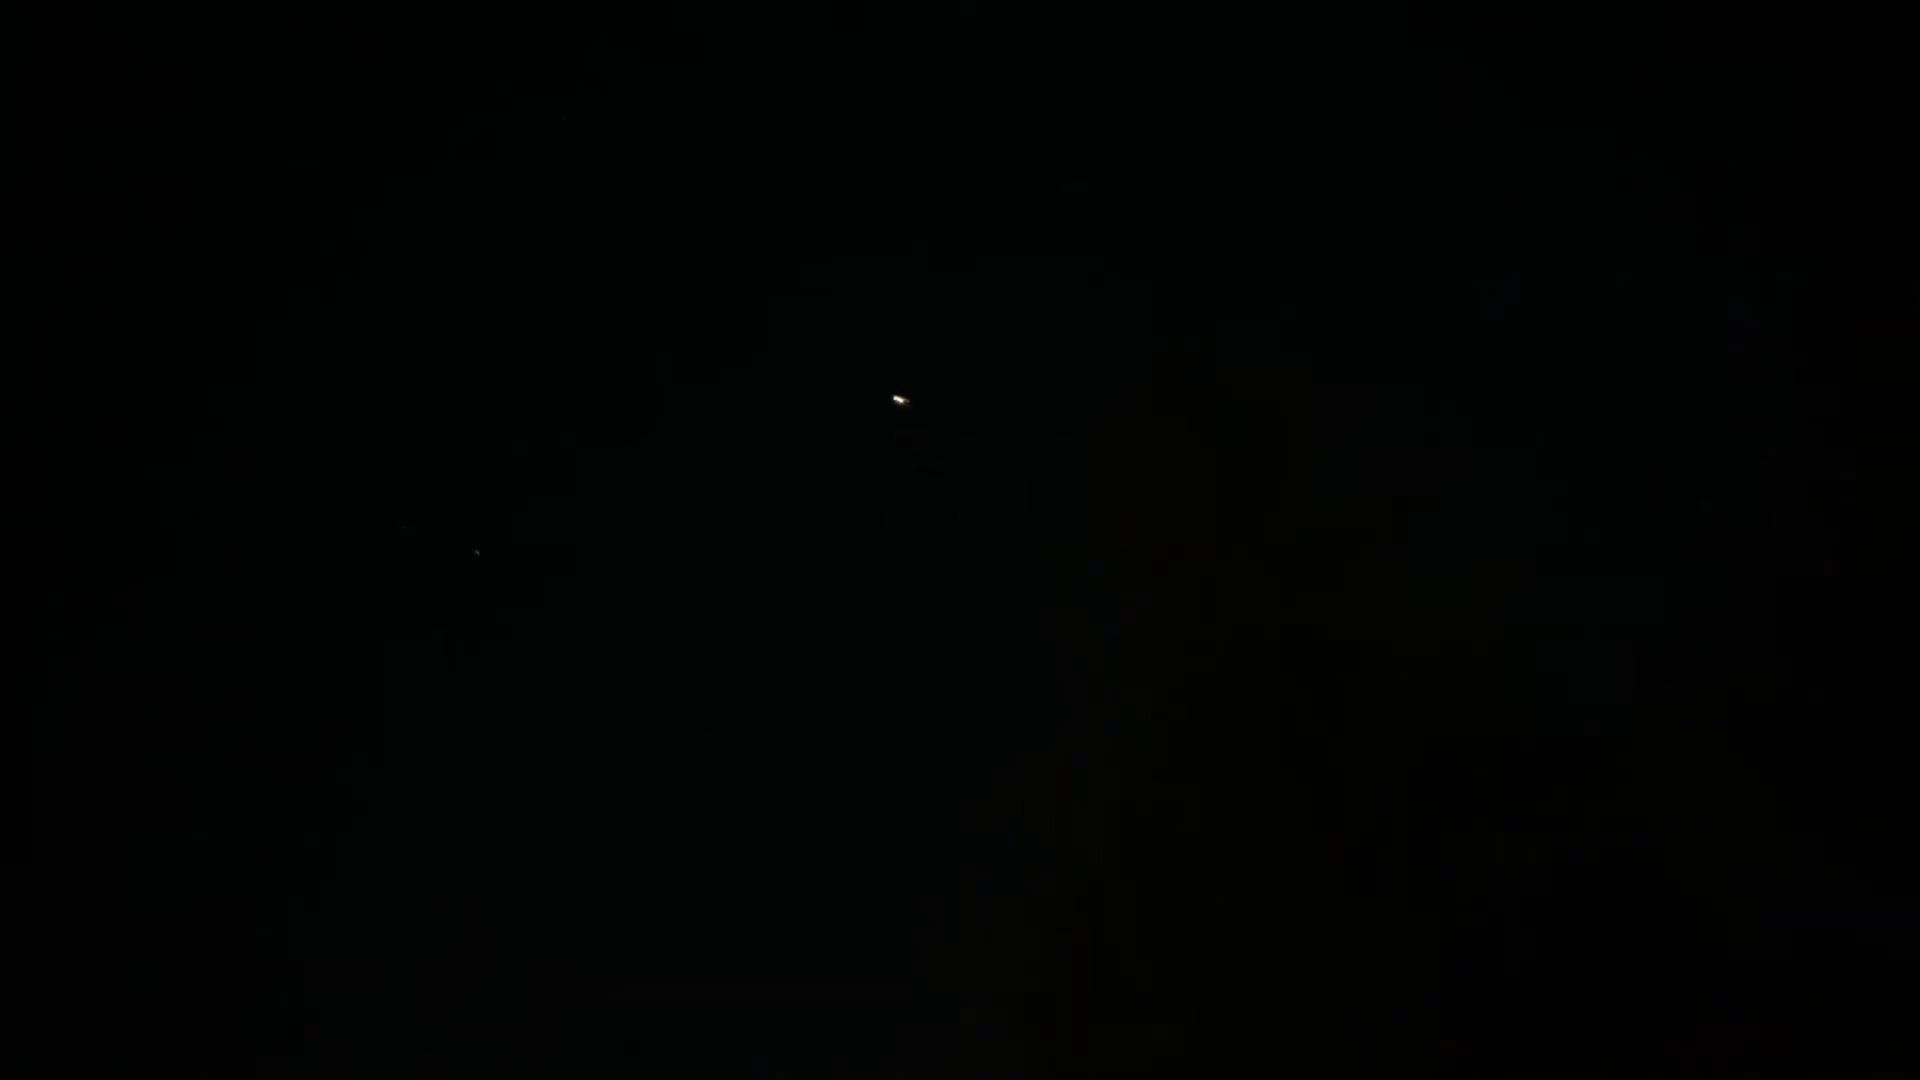Plane: (876, 378, 932, 405)
